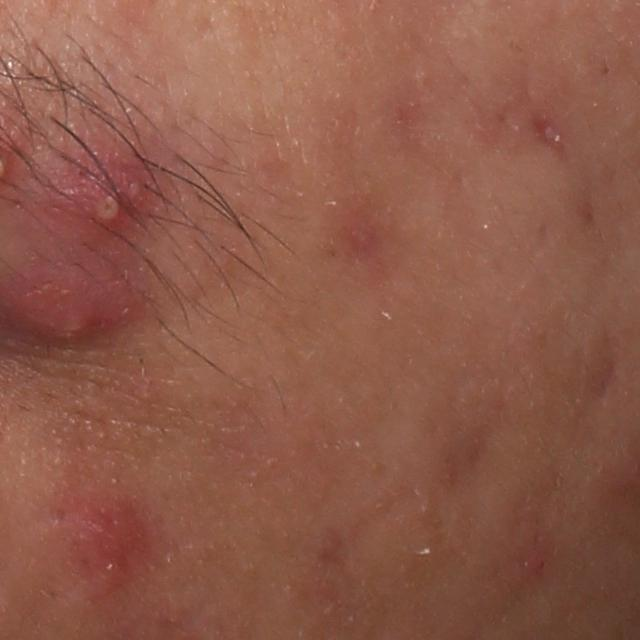atrophic_scar: (523, 100, 579, 169), (579, 334, 624, 414)
papule: (21, 272, 115, 357), (75, 497, 150, 565)
